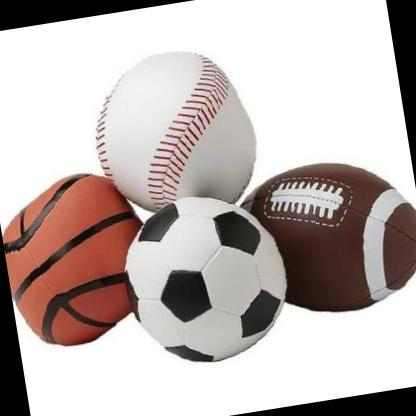ball: (114, 183, 298, 376), (82, 40, 262, 212), (260, 147, 416, 321), (0, 166, 135, 351)
